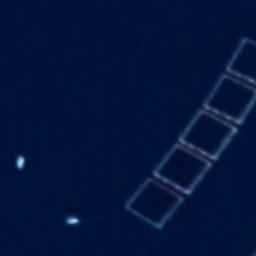square_solid: (144, 138, 217, 199), (172, 103, 241, 165), (120, 174, 186, 233), (197, 68, 256, 129), (219, 29, 256, 88)
